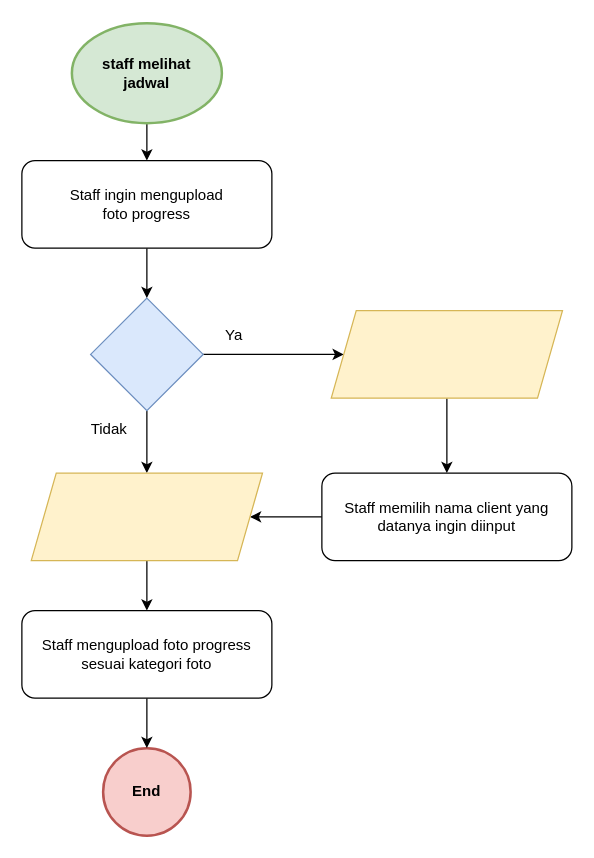
Some shapes in this 594 by 858 pixel diagram are drawn without their labels. Here are the shapes that lost their labels. From the top down, the centre of each, then its label:
the point at 146,354: client lebih dari 1?
the point at 446,353: pilihan nama client yang latihan di waktu tersebut
the point at 146,516: tampilan untuk upload foto atau take picture
